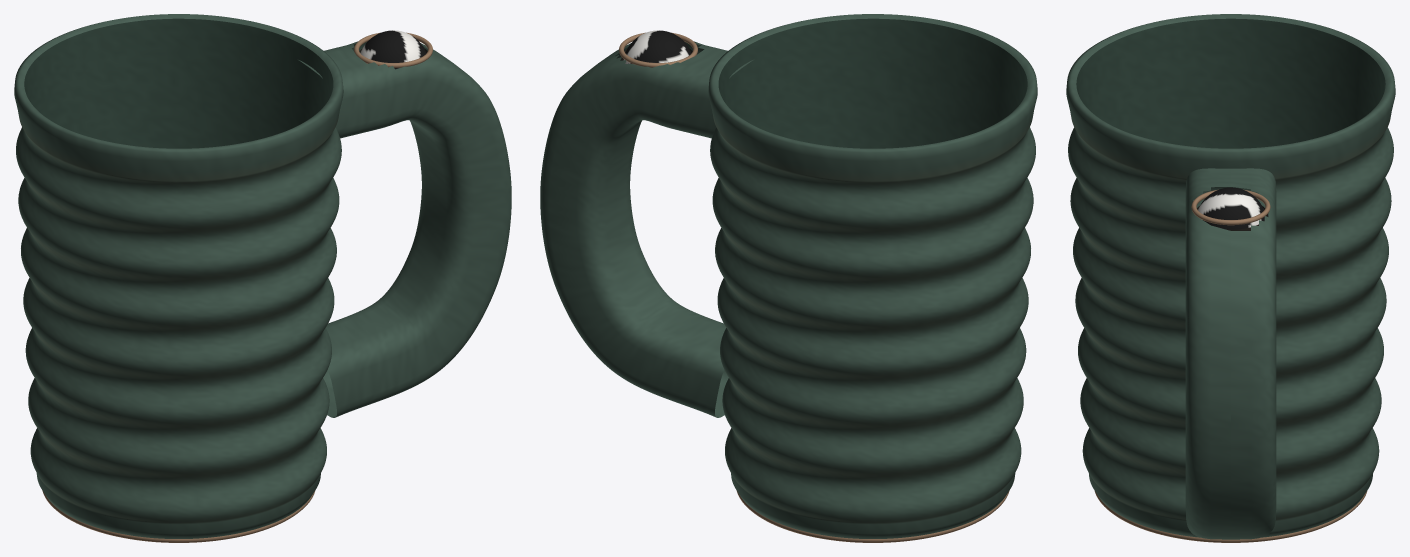
File: rolling-bead-cup-v1.glb
3 renders of one model, left to right at view 1: azimuth 30°, elevation 25°; view 2: azimuth 150°, elevation 25°; view 3: azimuth 270°, elevation 25°, orthographic.
Visible parts, largest first — view 1: Glaze_Body, Glaze_Handle, Glaze_Interior, RollingBead, UnglazedFoot, BeadSocket_Rim; view 2: Glaze_Body, Glaze_Handle, Glaze_Interior, RollingBead, UnglazedFoot, BeadSocket_Rim; view 3: Glaze_Body, Glaze_Interior, Glaze_Handle, RollingBead, UnglazedFoot, BeadSocket_Rim.
Boxes of the visible parts, <box> form: Glaze_Body: <box>14,14,343,538</box>; Glaze_Handle: <box>298,41,511,417</box>; Glaze_Interior: <box>24,18,333,148</box>; RollingBead: <box>360,30,426,69</box>; UnglazedFoot: <box>42,490,315,542</box>; BeadSocket_Rim: <box>354,32,432,67</box>; Glaze_Body: <box>708,14,1037,538</box>; Glaze_Handle: <box>540,41,753,417</box>; Glaze_Interior: <box>718,18,1027,148</box>; RollingBead: <box>623,30,691,63</box>; UnglazedFoot: <box>736,490,1009,542</box>; BeadSocket_Rim: <box>619,32,697,67</box>; Glaze_Body: <box>1066,14,1395,537</box>; Glaze_Interior: <box>1076,18,1385,148</box>; Glaze_Handle: <box>1185,168,1276,539</box>; RollingBead: <box>1198,187,1264,229</box>; UnglazedFoot: <box>1094,491,1367,542</box>; BeadSocket_Rim: <box>1191,189,1270,225</box>.
Bounding box in the file's own units: 3.53 × 2.96 × 2.18.
